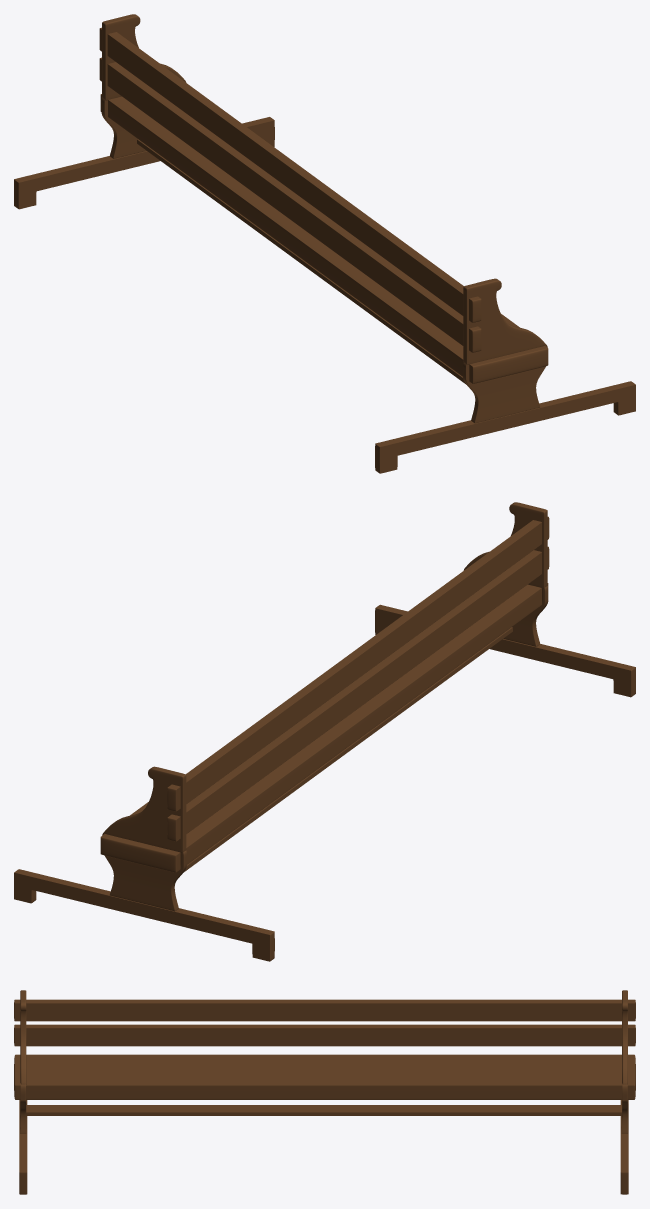
File: Banco.fbx
3 views of the same model, one above another, from view 1: azimuth 30°, elevation 25°; view 2: azimuth 150°, elevation 25°; view 3: azimuth 270°, elevation 25° (orthographic). The views are drawn at different scales.
Parts seen in each view (by area): view 1: Cube.003; view 2: Cube.003; view 3: Cube.003.
Part boxes in pixels (bbox=[...]): Cube.003: bbox=[14, 14, 635, 473]; Cube.003: bbox=[14, 502, 635, 961]; Cube.003: bbox=[14, 990, 635, 1194].
Bounding box in the file's own units: 36.6 × 22.31 × 92.31.
